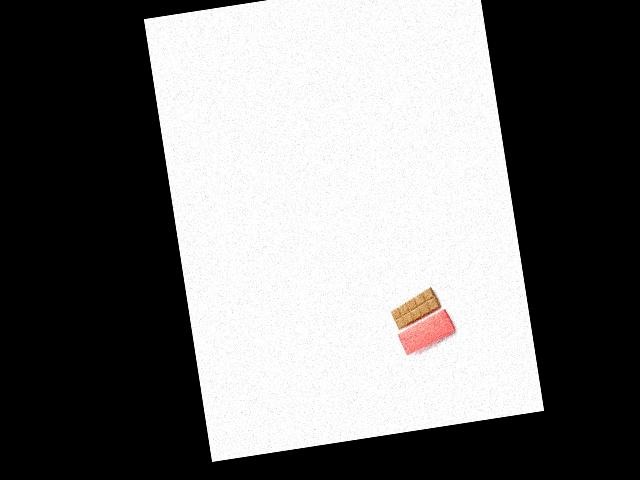chocolate: (386, 285, 446, 333)
